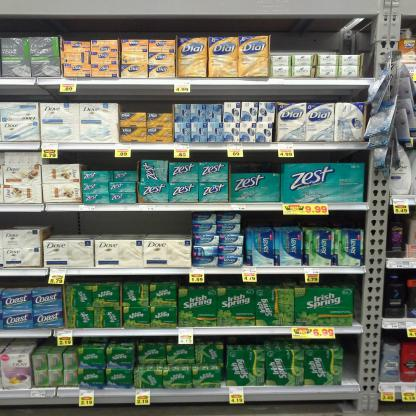Void: (10, 17, 259, 33), (200, 83, 359, 104), (49, 214, 191, 235), (274, 22, 361, 47), (254, 210, 360, 226), (124, 88, 165, 111), (88, 152, 132, 169), (239, 158, 273, 171), (346, 343, 356, 382), (5, 214, 37, 223)
